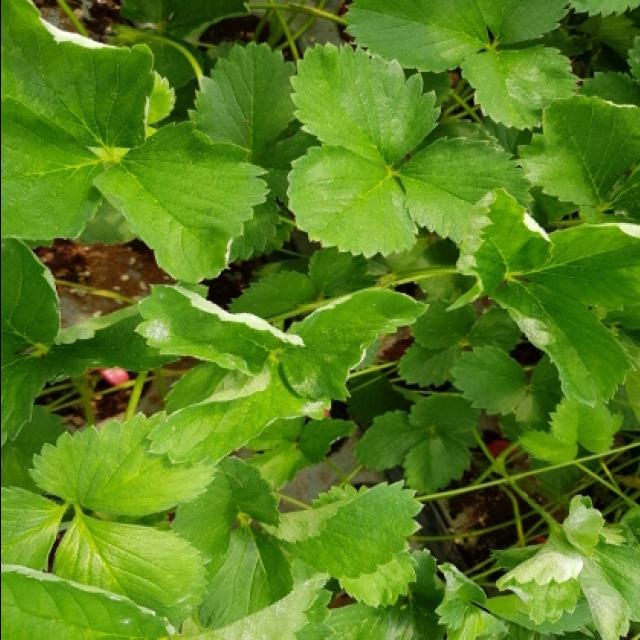Powdery Mildew Leaf: (89, 117, 271, 286), (2, 2, 157, 153), (142, 356, 332, 469), (490, 280, 637, 409), (279, 288, 430, 404), (132, 283, 304, 378), (444, 187, 554, 311), (2, 565, 174, 640), (458, 42, 583, 132), (494, 526, 585, 626), (578, 557, 630, 640), (562, 495, 606, 561)
